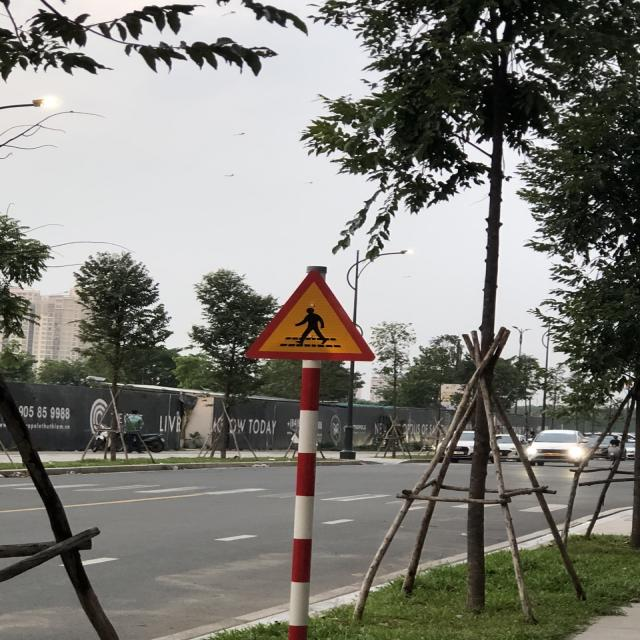Bien bao duong nguoi di bo cat ngang: (238, 259, 386, 376)
